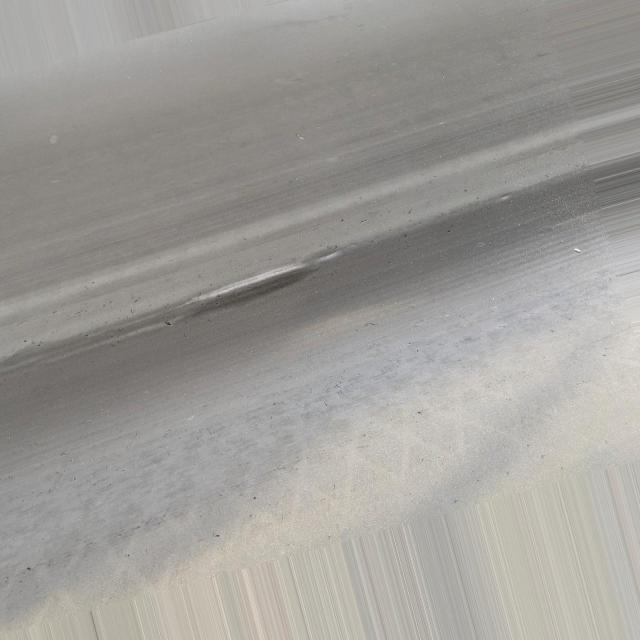Impact Damage: (187, 236, 356, 324)
